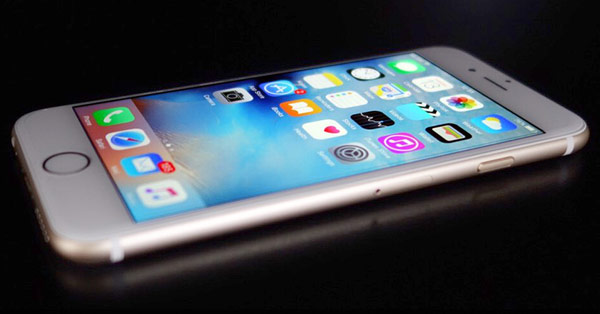Phone: (8, 42, 591, 267)
